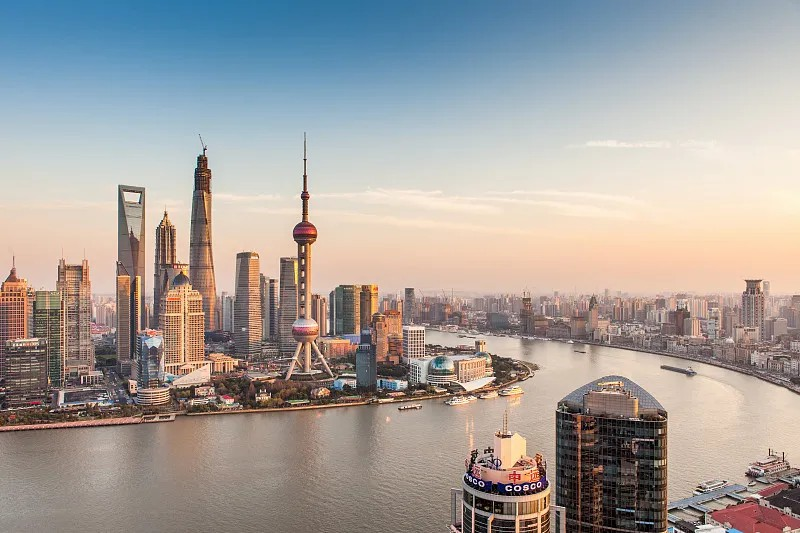Oriental: (285, 131, 334, 383)
